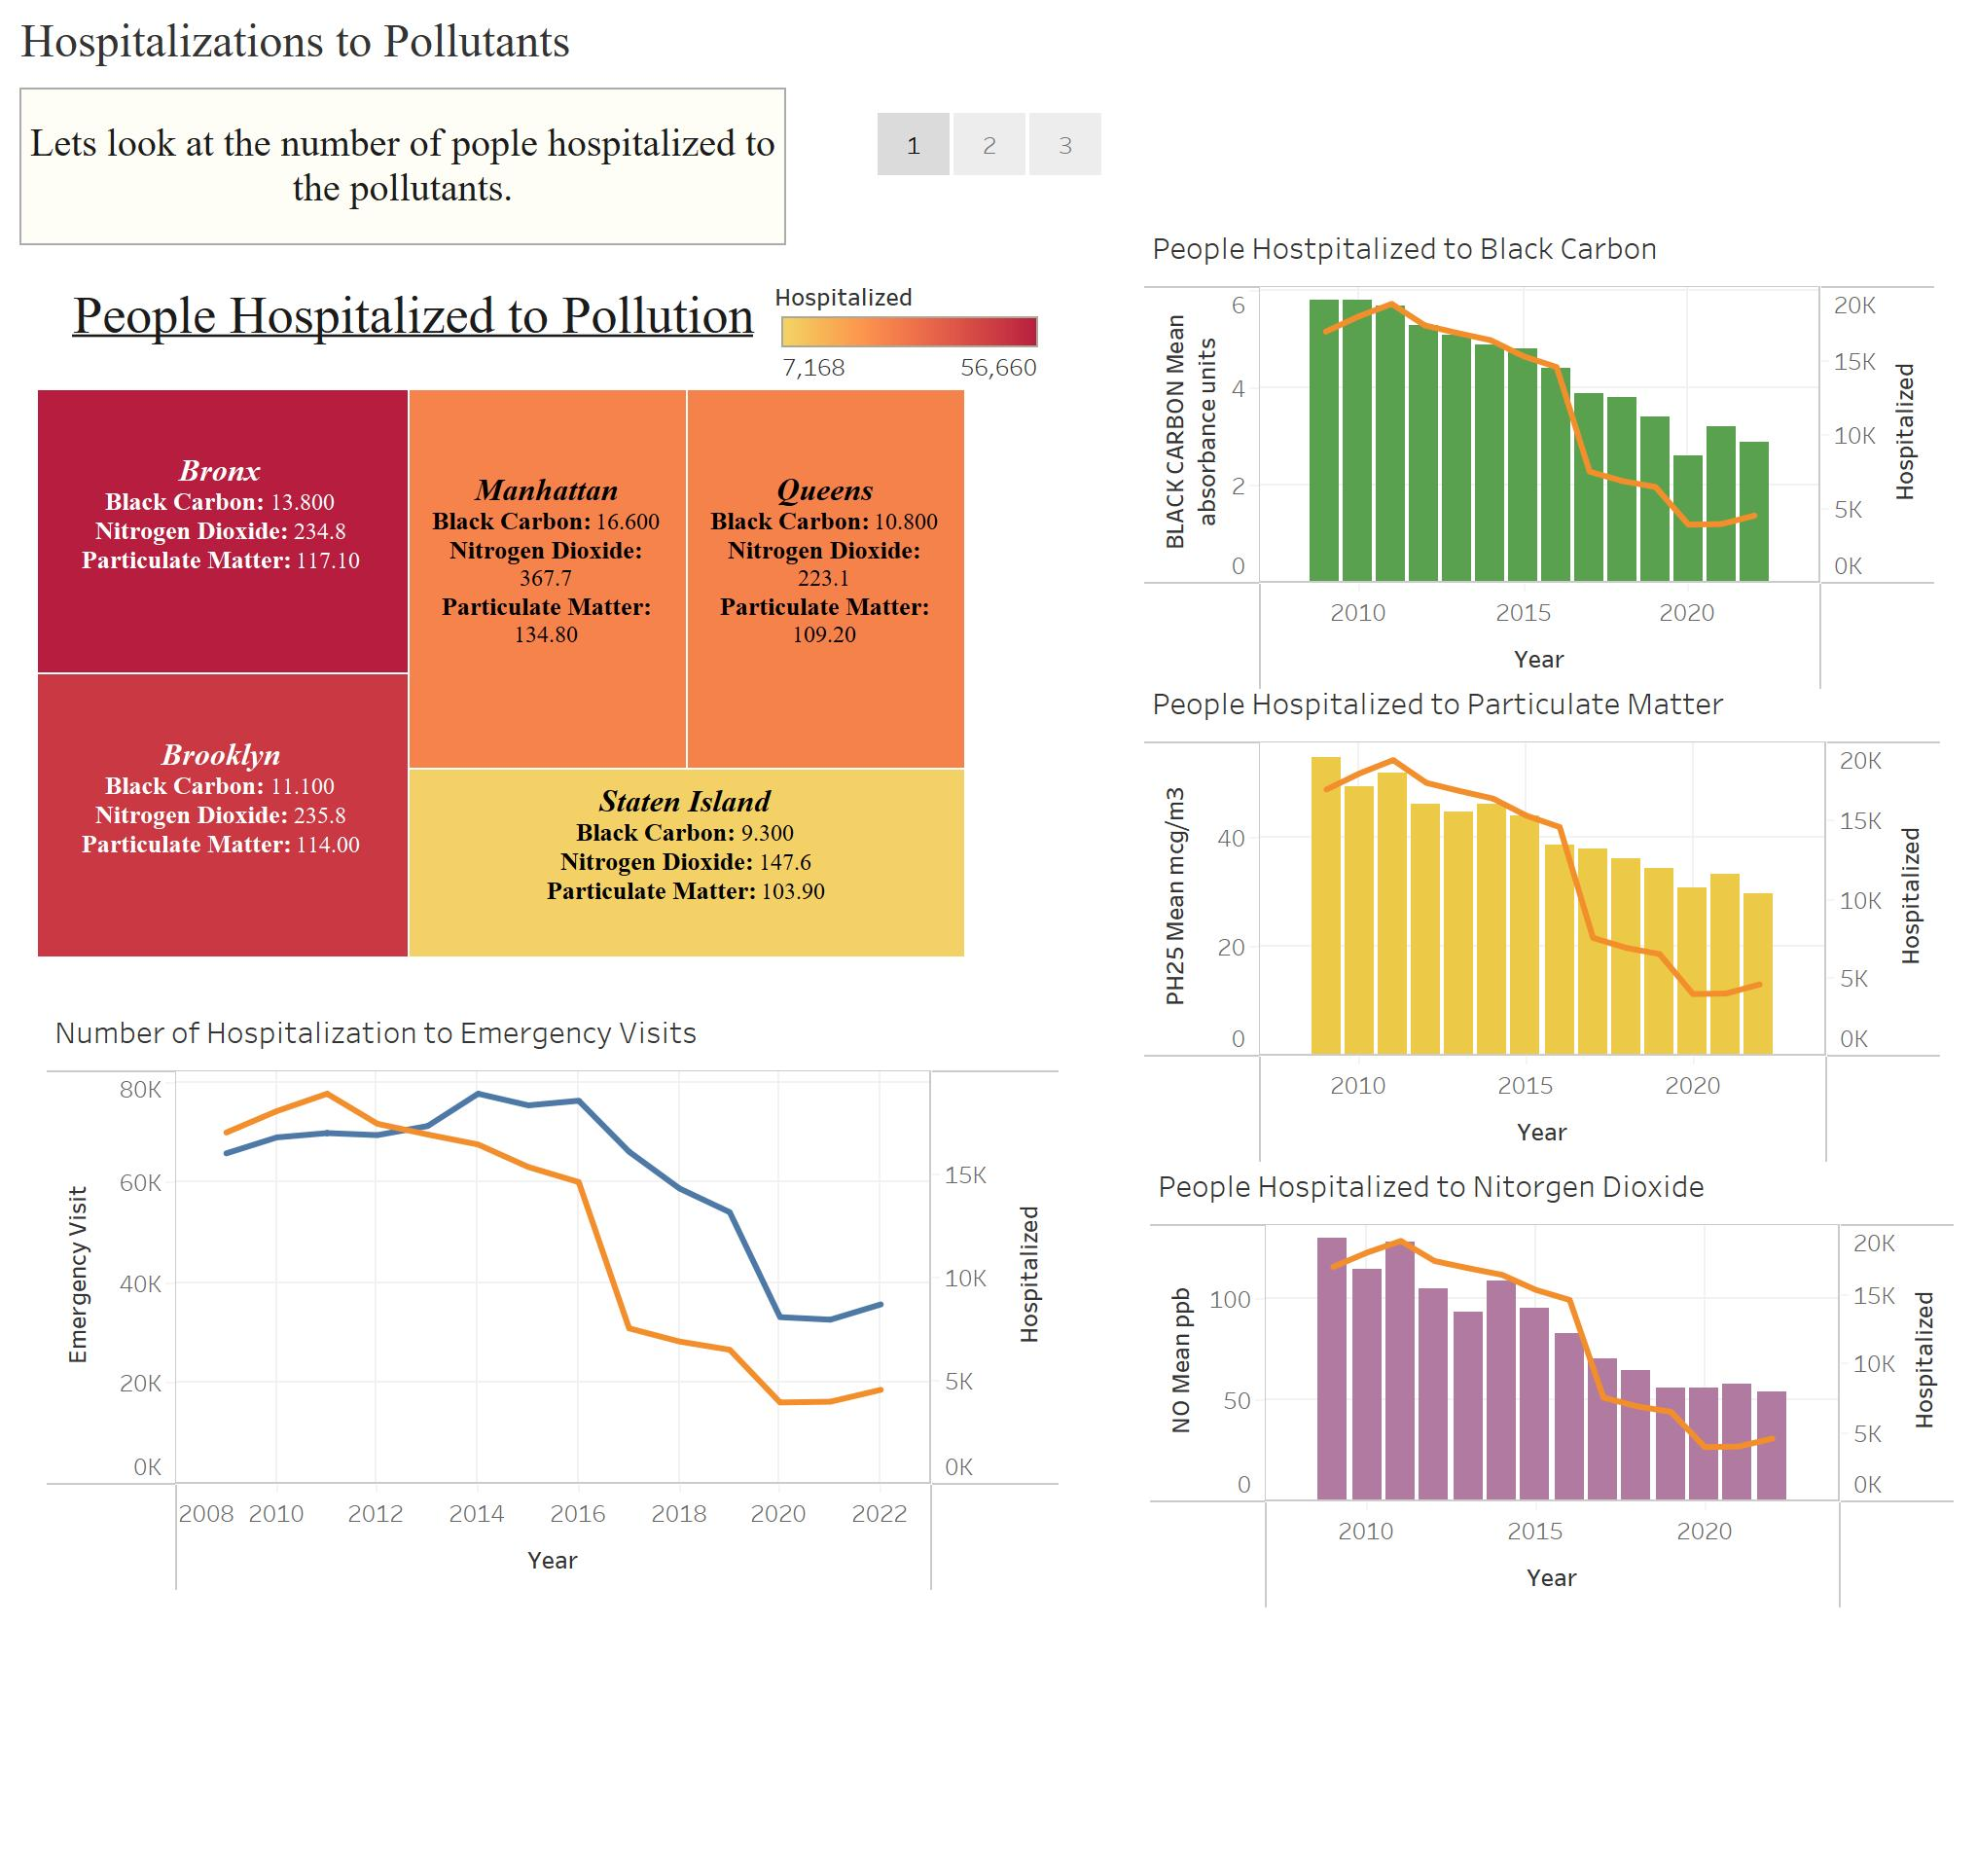

This screenshot's page, from the dashboard's own definition file:
{"tool":"tableau","page":{"name":"Dashboard 1","canvas":[1000,800],"ordinal":0},"visuals":[{"type":"text","box":[27,22,519,52]},{"type":"legend","title":"Sheet 11","param":"[federated.1dj4w950e07gcg116i2i306ti1na].[sum:Hospitalized:qk]","box":[390,26,140,58]},{"type":"worksheet","title":"Sheet 11","mark":"Square","box":[7,67,491,316]},{"type":"worksheet","title":"Sheet 5","mark":"Automatic","rows":["PH25 Mean mcg/m3","Hospitalized"],"cols":["Year"],"box":[580,231,410,253]},{"type":"worksheet","title":"Sheet 10","mark":"Automatic","rows":["Emergency Visit","Hospitalized"],"cols":["Year"],"box":[16,400,521,304]},{"type":"worksheet","title":"Sheet 4","mark":"Automatic","rows":["NO Mean ppb","Hospitalized"],"cols":["Year"],"box":[583,479,414,234]}]}

Visuals, with their boxes on the page's 1000x800 design canvas (x1, y1, x2, y2). These are canvas units, not pixel positions in the 1977x1876 screenshot, which may show the page scaled, cropped or inside an application window:
text: <box>27,22,546,74</box>
"Sheet 11" legend: <box>390,26,530,84</box>
"Sheet 11" worksheet (Square marks): <box>7,67,498,383</box>
"Sheet 5" worksheet: <box>580,231,990,484</box>
"Sheet 10" worksheet: <box>16,400,537,704</box>
"Sheet 4" worksheet: <box>583,479,997,713</box>
